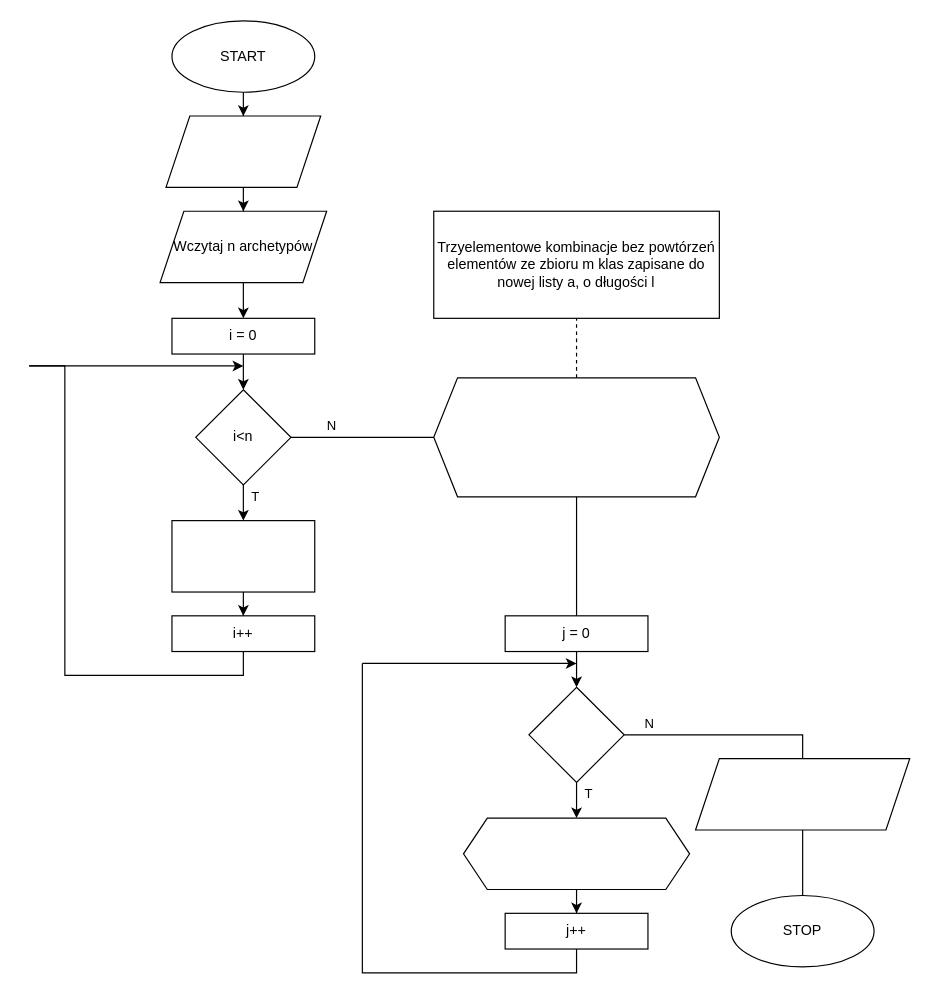
Some shapes in this 931 by 995 pixel diagram are drawn without their labels. The shapes that lost their labels are listed below. From the top down, each one's centre as x and y in pixels, then its label:
At (243,151): "Wczytaj listę m klas".
At (243,555): "Przypisz archetyp[i] do odpowiadającej klasy".
At (576,734): "j<l".
At (802,793): "Lista wszystkich możliwych zestawień turniejowych".
At (576,853): "Wpisz wszystkie możliwe kombinacje klas do nowej listy".
